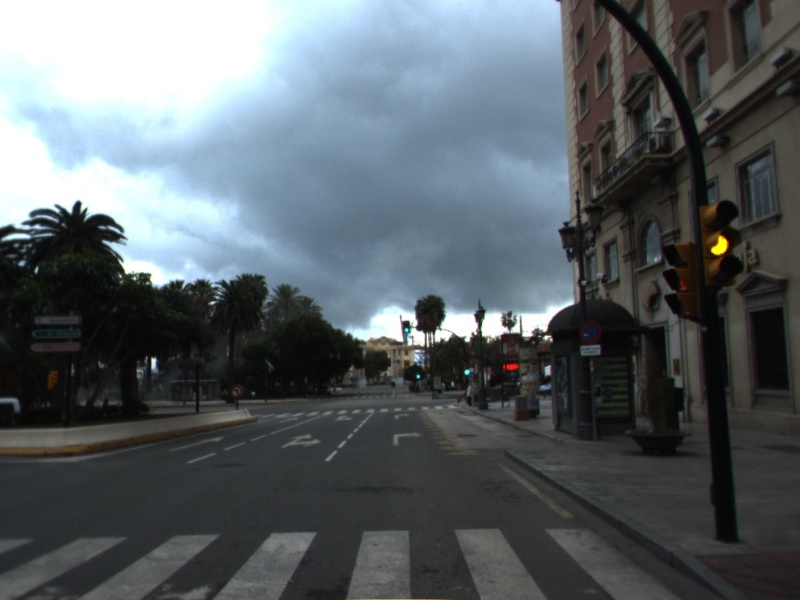RIGHT: (390, 429, 425, 448), (393, 411, 411, 422)
STRAIGHT: (167, 434, 227, 453), (276, 416, 299, 425)
STRAIGHT_RIGHT: (278, 432, 324, 450), (333, 414, 354, 423)
